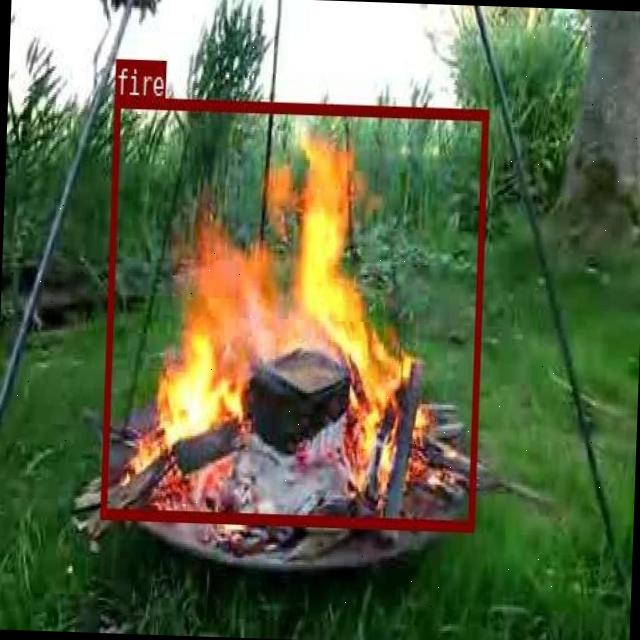fire: (100, 94, 488, 528)
